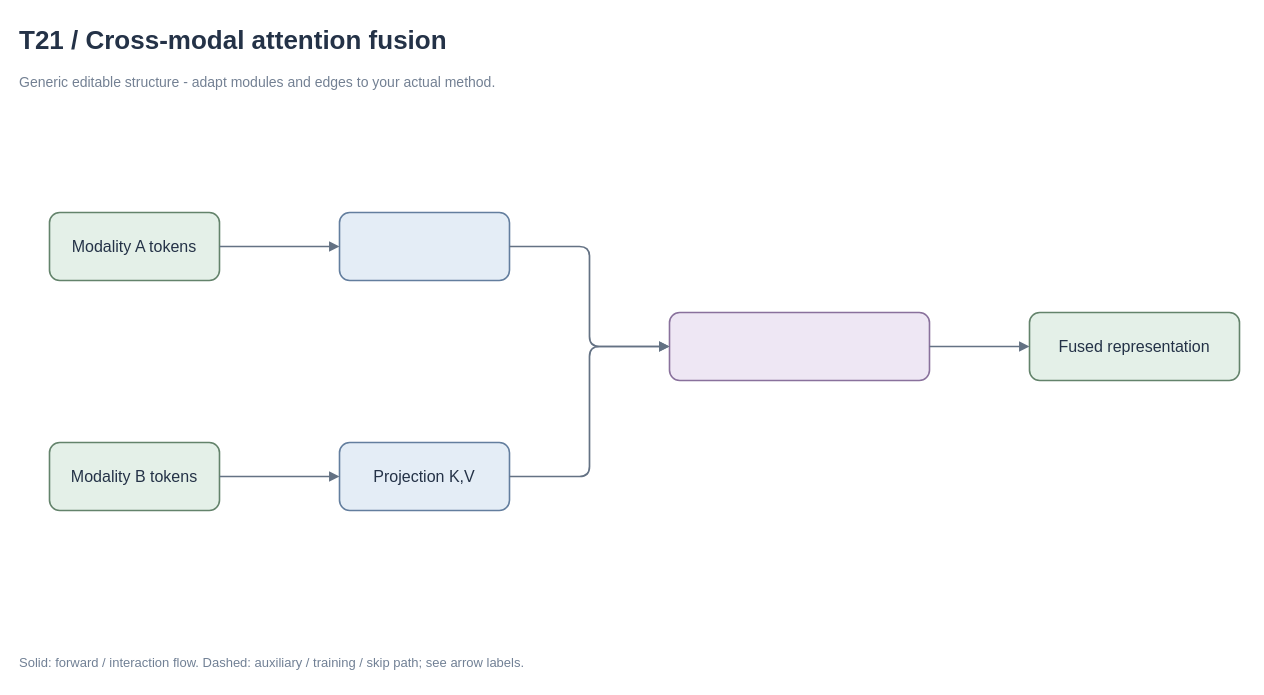
Image size: 1264x695. Some labels were removed from this diagram. The shapes that lost their labels are listed below. From the top down, each one's box as (x1, y1, x2, y2) in pixels, then its label:
(338, 211, 510, 281): Projection Q
(668, 311, 930, 381): Cross-attention Q_A attends to K_B,V_B
